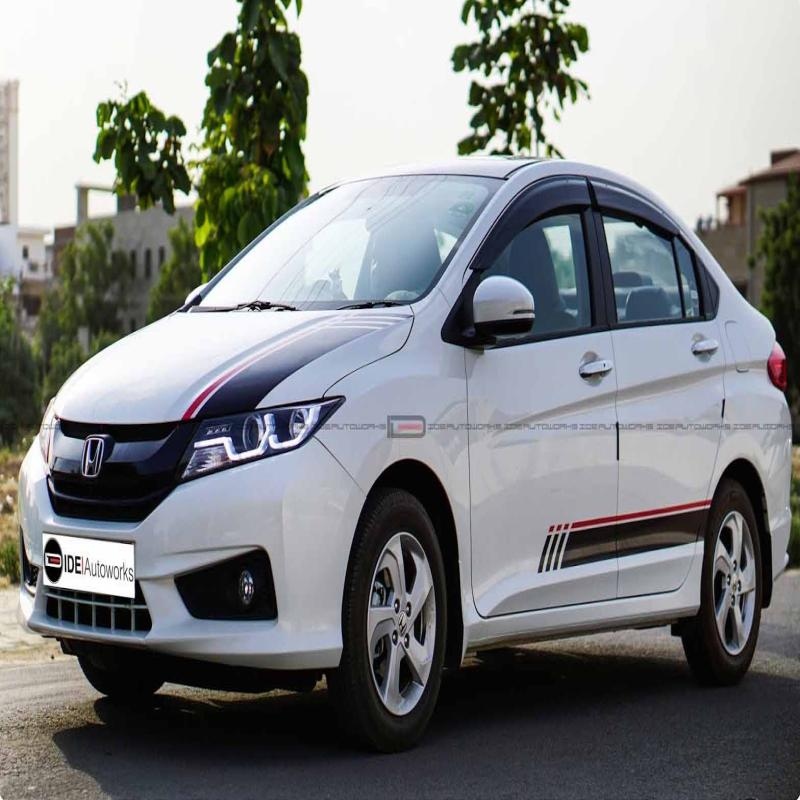car: (23, 131, 800, 734)
